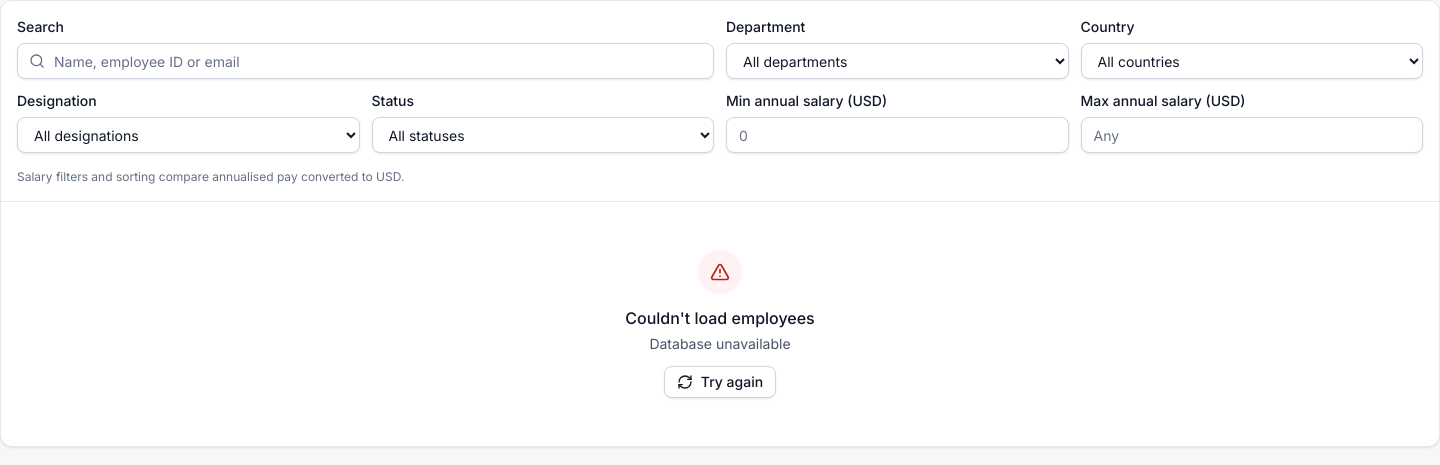
EmployeeDirectory rendering › shows an error state with a working retry
The image size is (1440, 465).
Expected: the message shows "Database unavailable", [649,335,791,352]
Click the button "Try again" at (720, 382), box [664,366,776,398]
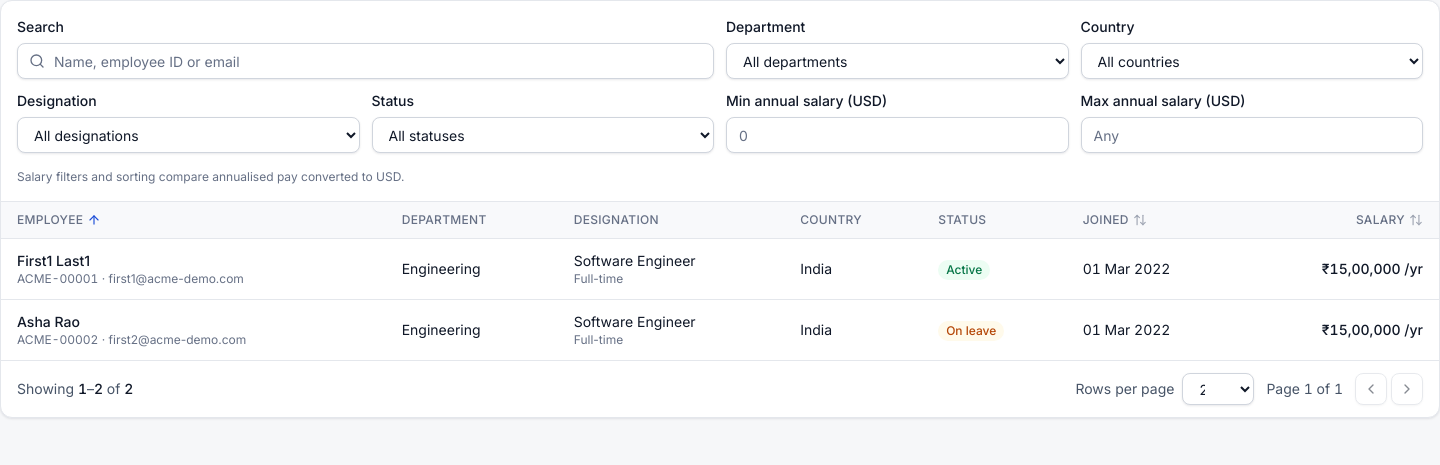
Result: the link "First1 Last1" is shown at [17,252,90,269]
